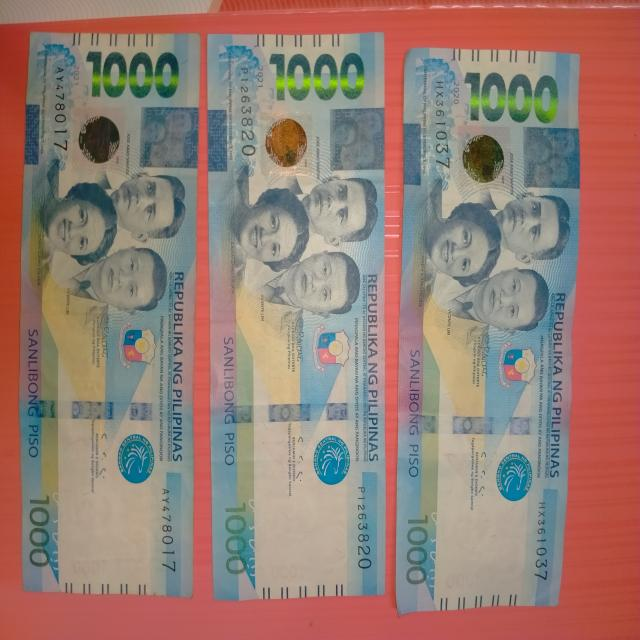optically_variable_device: (259, 109, 314, 177), (140, 107, 199, 167)
see_through_mark: (242, 493, 268, 586)
